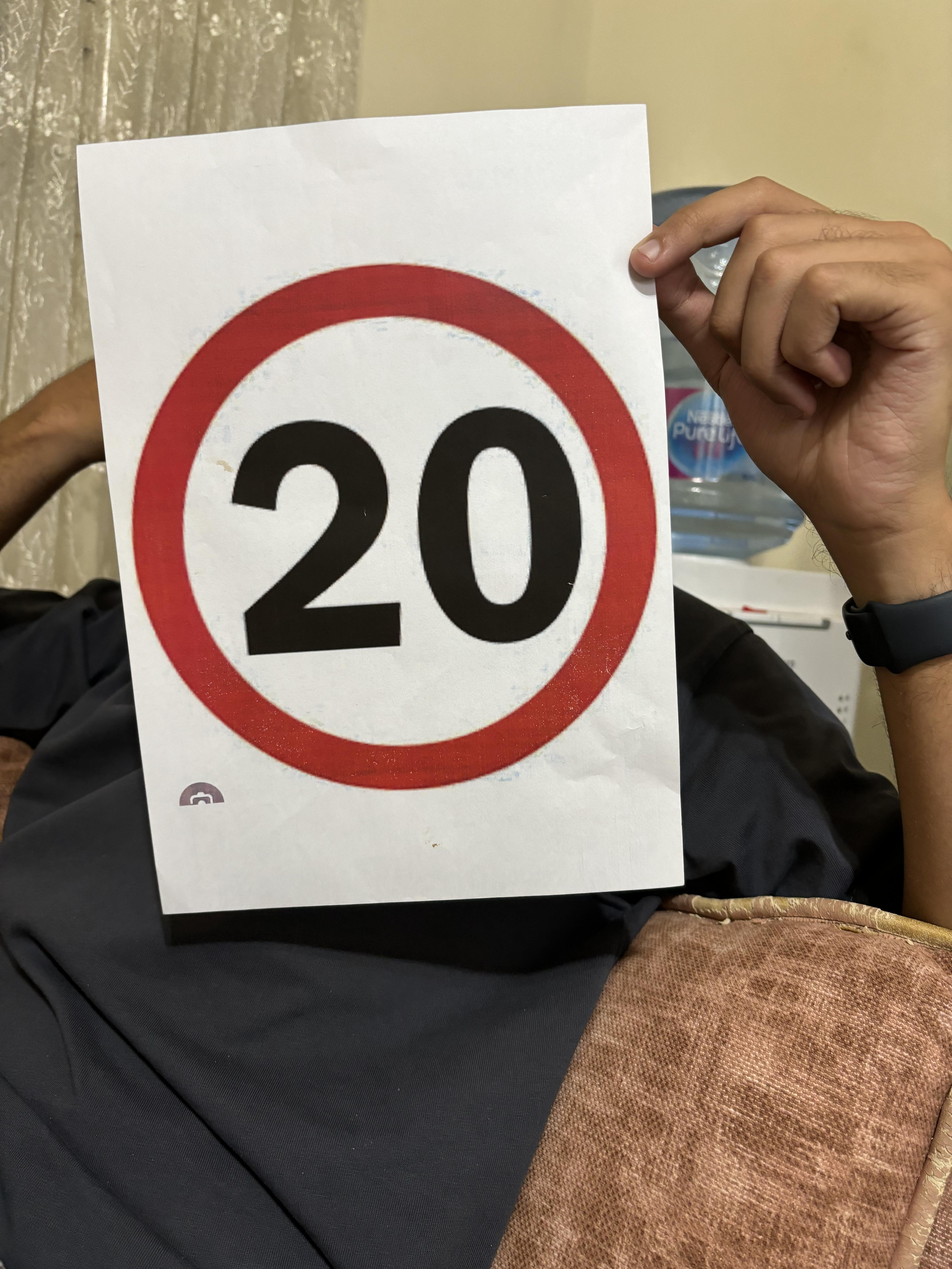20-Speed: (125, 251, 665, 796)
